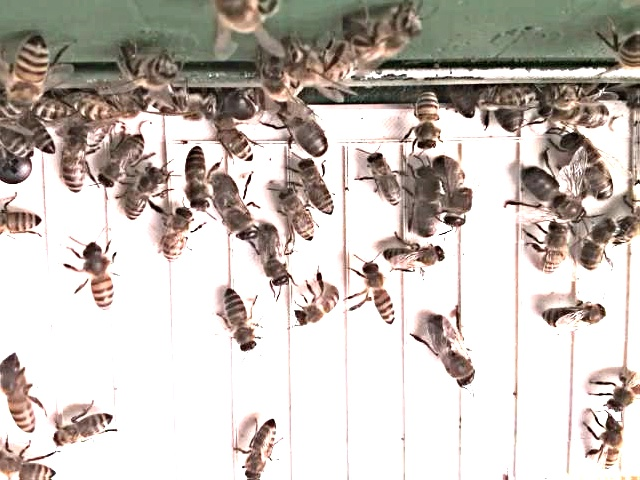Drone: (426, 311, 479, 393), (521, 165, 588, 227), (560, 132, 615, 203), (212, 171, 258, 245), (276, 100, 330, 161), (435, 154, 476, 230), (408, 165, 446, 240), (254, 222, 292, 292)
Worker: (0, 355, 40, 440), (50, 409, 120, 452), (125, 167, 172, 226), (102, 131, 147, 192), (80, 244, 118, 315), (224, 288, 262, 357), (538, 301, 610, 337), (367, 147, 407, 211), (362, 262, 399, 330), (299, 157, 338, 220), (293, 285, 344, 332), (244, 417, 282, 480), (582, 217, 622, 276), (278, 186, 318, 245), (160, 206, 198, 266), (62, 125, 92, 197), (534, 222, 571, 280), (383, 242, 450, 274), (591, 414, 627, 473), (414, 89, 446, 155), (183, 145, 210, 216), (218, 114, 254, 166), (0, 209, 48, 240)
